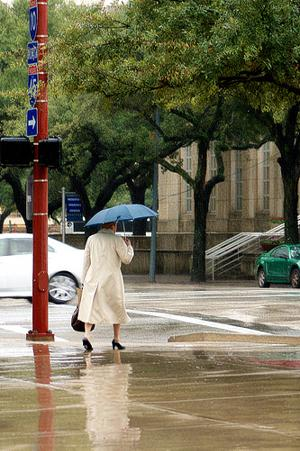person: (77, 223, 134, 353)
